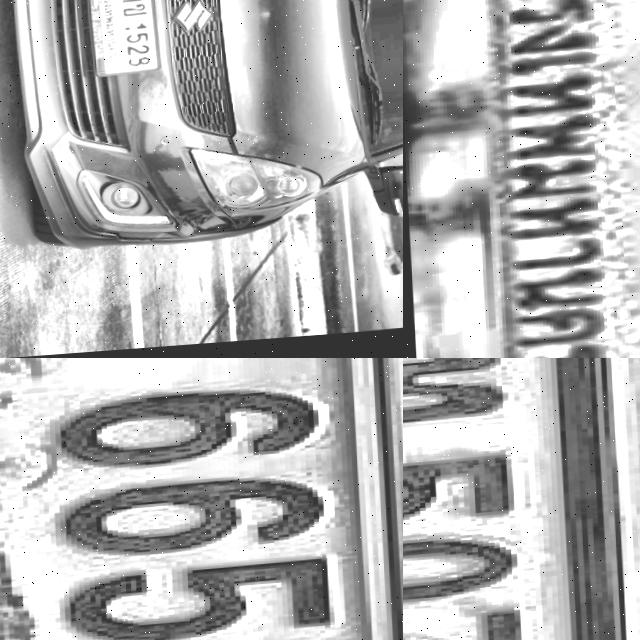license-plate: (0, 358, 403, 640), (403, 0, 640, 358), (403, 358, 628, 640), (87, 0, 158, 80)
